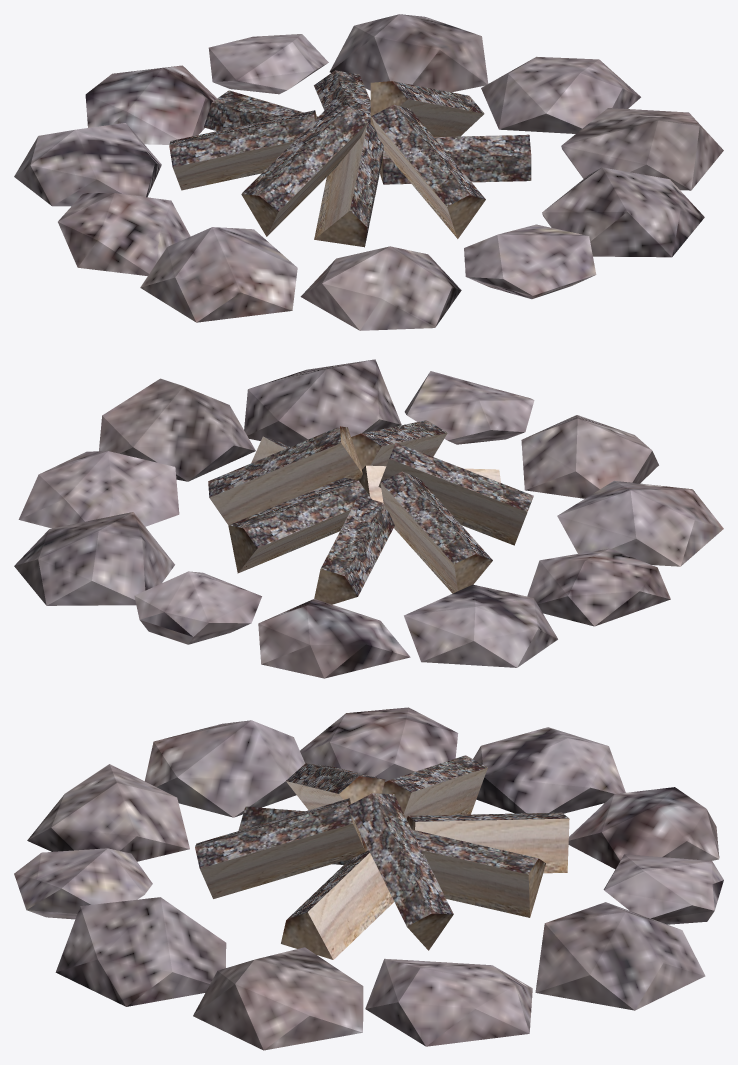
The model's file is MS_Fireplace.fbx.
3 views of the same model, one above another, from view 1: azimuth 30°, elevation 25°; view 2: azimuth 150°, elevation 25°; view 3: azimuth 270°, elevation 25° (orthographic). The views are drawn at different scales.
Parts seen in each view (by area): view 1: MSH_Stones, MSH_Logs, MSH_Logs.001, MSH_Logs.002, MSH_Logs.005, MSH_Logs.007, MSH_Logs.003, MSH_Logs.006, MSH_Logs.004; view 2: MSH_Stones, MSH_Logs.003, MSH_Logs.002, MSH_Logs.004, MSH_Logs, MSH_Logs.006, MSH_Logs.001, MSH_Logs.005; view 3: MSH_Stones, MSH_Logs.001, MSH_Logs.003, MSH_Logs.004, MSH_Logs.007, MSH_Logs.006, MSH_Logs.002, MSH_Logs, MSH_Logs.005.
Part boxes in pixels (<box>): MSH_Stones: <box>14,14,723,330</box>; MSH_Logs: <box>241,104,367,236</box>; MSH_Logs.001: <box>371,104,485,238</box>; MSH_Logs.002: <box>169,110,316,190</box>; MSH_Logs.005: <box>314,122,383,247</box>; MSH_Logs.007: <box>380,134,531,184</box>; MSH_Logs.003: <box>370,81,484,136</box>; MSH_Logs.006: <box>204,90,317,131</box>; MSH_Logs.004: <box>314,70,370,123</box>; MSH_Stones: <box>14,359,723,678</box>; MSH_Logs.003: <box>208,426,362,525</box>; MSH_Logs.002: <box>380,471,492,593</box>; MSH_Logs.004: <box>228,478,371,573</box>; MSH_Logs: <box>378,443,533,545</box>; MSH_Logs.006: <box>314,495,394,604</box>; MSH_Logs.001: <box>351,420,447,469</box>; MSH_Logs.005: <box>357,465,500,503</box>; MSH_Stones: <box>14,707,723,1050</box>; MSH_Logs.001: <box>195,798,365,898</box>; MSH_Logs.003: <box>347,793,453,950</box>; MSH_Logs.004: <box>412,829,545,917</box>; MSH_Logs.007: <box>281,850,394,959</box>; MSH_Logs.006: <box>406,812,569,873</box>; MSH_Logs.002: <box>382,755,487,818</box>; MSH_Logs: <box>286,763,385,810</box>; MSH_Logs.005: <box>238,806,368,864</box>.
Size of the model in its own units: 143 by 24.02 by 135.
